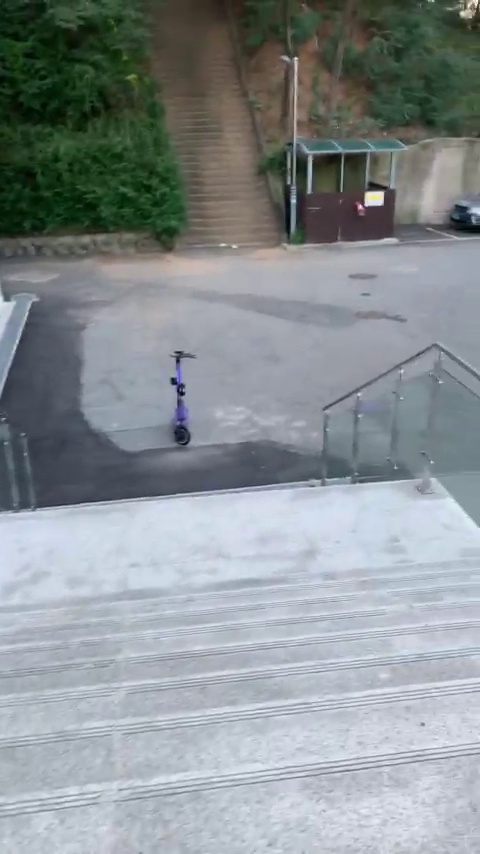beam: (160, 342, 210, 447)
